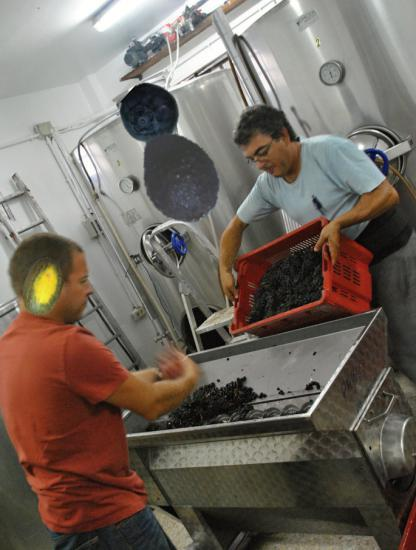Avocado: (134, 126, 231, 223)
Blueberry: (120, 84, 181, 145)
Melon: (16, 257, 77, 318)
